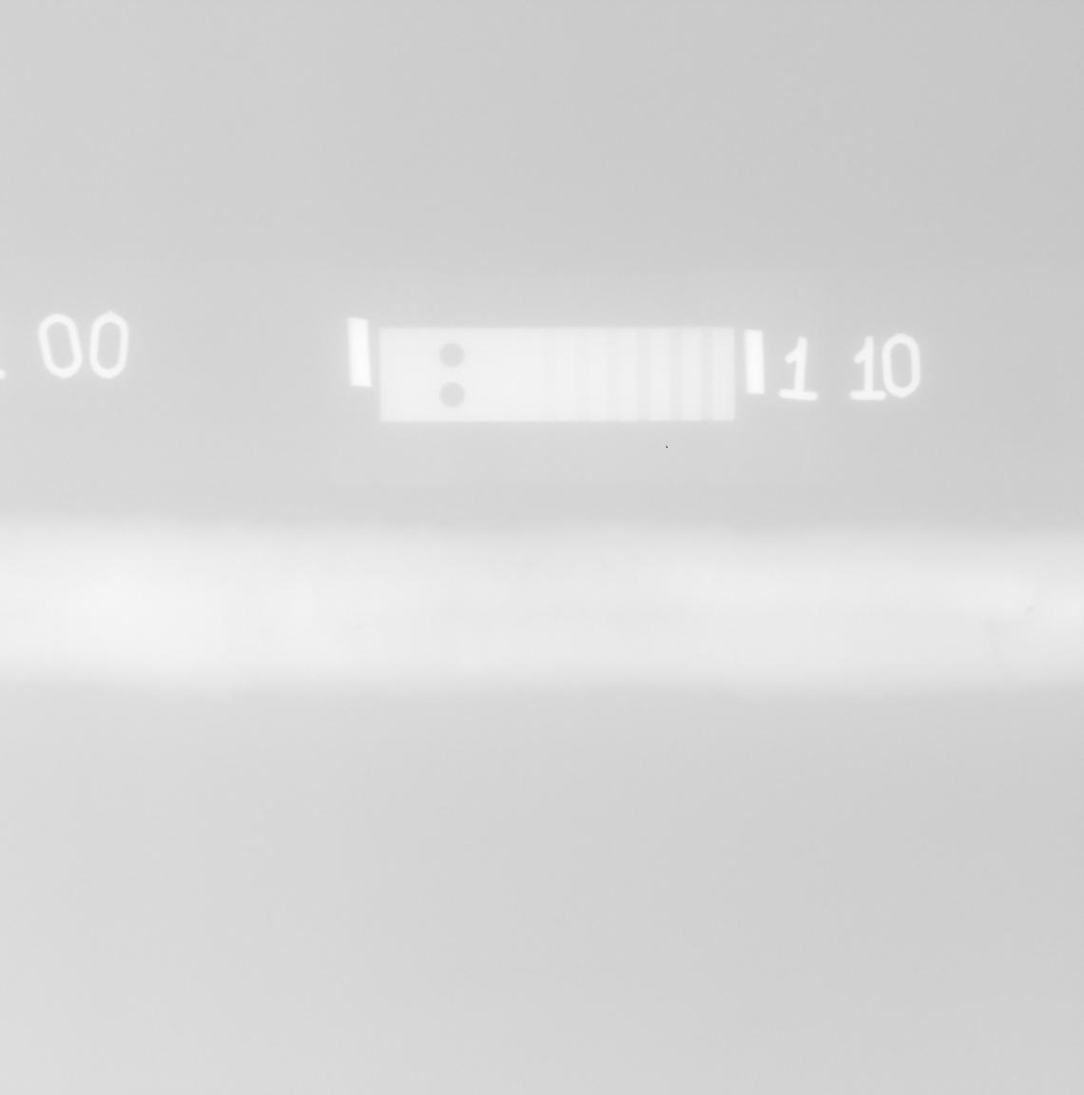Pore/Porosity: (355, 621, 361, 631), (1027, 607, 1033, 613), (1020, 599, 1025, 601)
Reference Standard 2: (379, 326, 735, 423)
